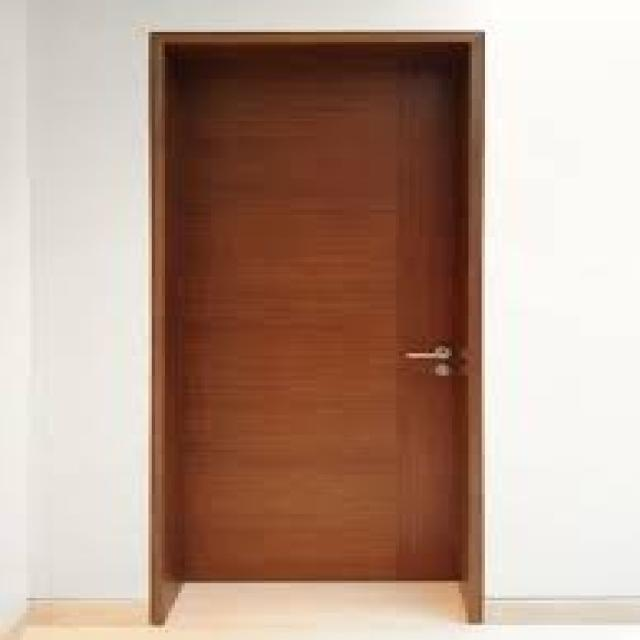door: (150, 32, 483, 610)
